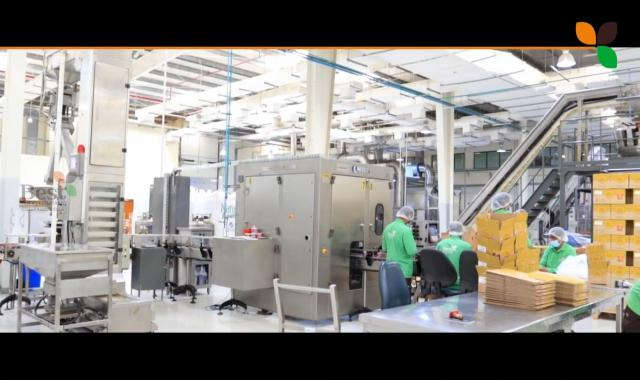hairnet: (548, 225, 568, 244), (491, 193, 512, 211), (448, 221, 463, 235), (397, 206, 413, 219)
